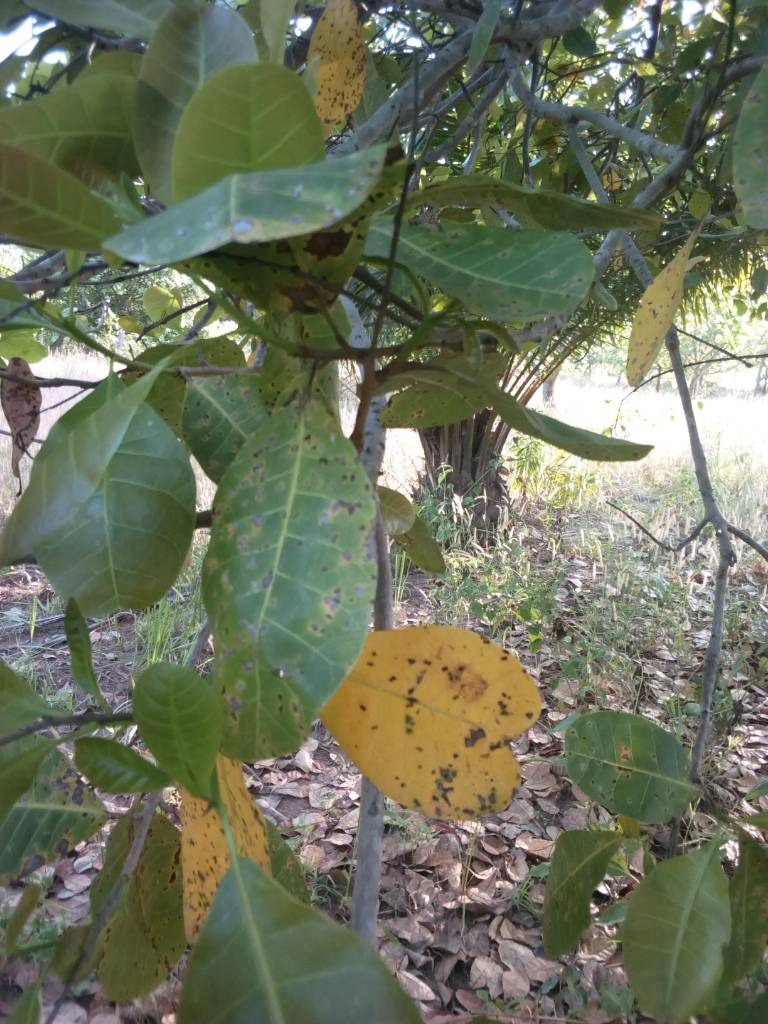Anthracnose: (208, 400, 383, 774), (350, 633, 538, 822), (399, 217, 604, 324), (97, 825, 194, 1002), (621, 232, 702, 399), (1, 747, 100, 875), (188, 769, 255, 863), (316, 2, 366, 124)
